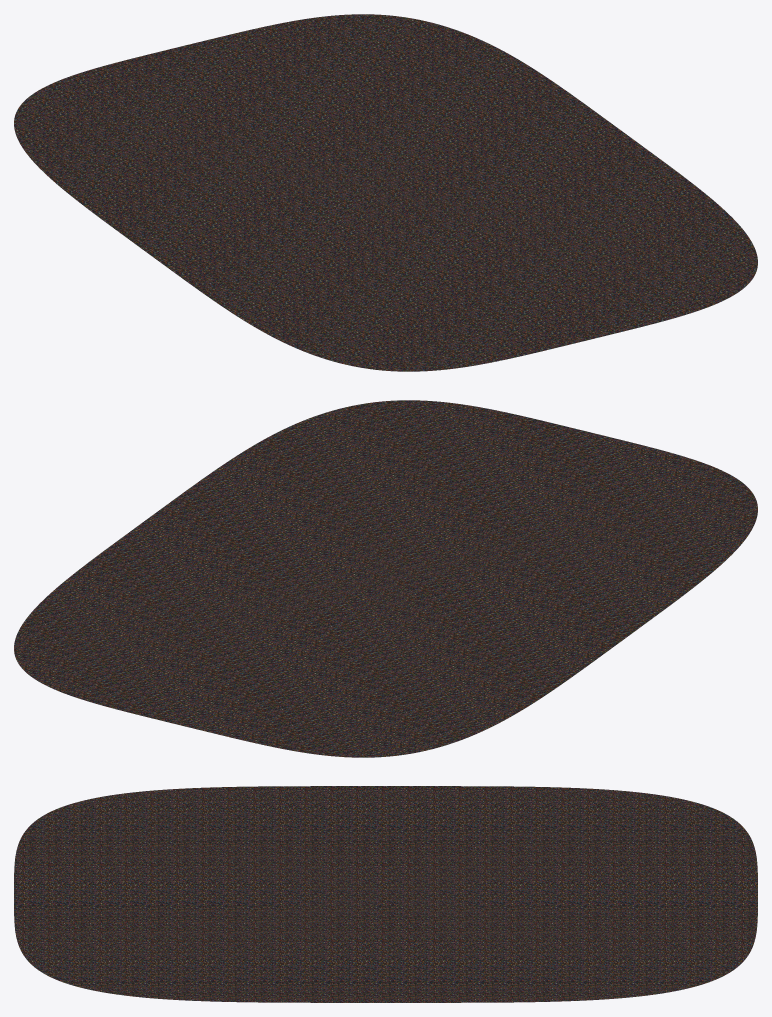
File: FieldFloor.obj
3 renders of one model, top to bottom at view 1: azimuth 30°, elevation 25°; view 2: azimuth 150°, elevation 25°; view 3: azimuth 270°, elevation 25°, orthographic. The views are drawn at different scales.
Visible parts, largest first — view 1: FieldFloor; view 2: FieldFloor; view 3: FieldFloor.
Part boxes in pixels (left/top/right/bottom): FieldFloor: left=14, top=14, right=757, bottom=371; FieldFloor: left=14, top=400, right=757, bottom=757; FieldFloor: left=14, top=786, right=757, bottom=1002.
Size of the model in its own units: 79.9 by 0 by 116.
1 material, 1 textured.
